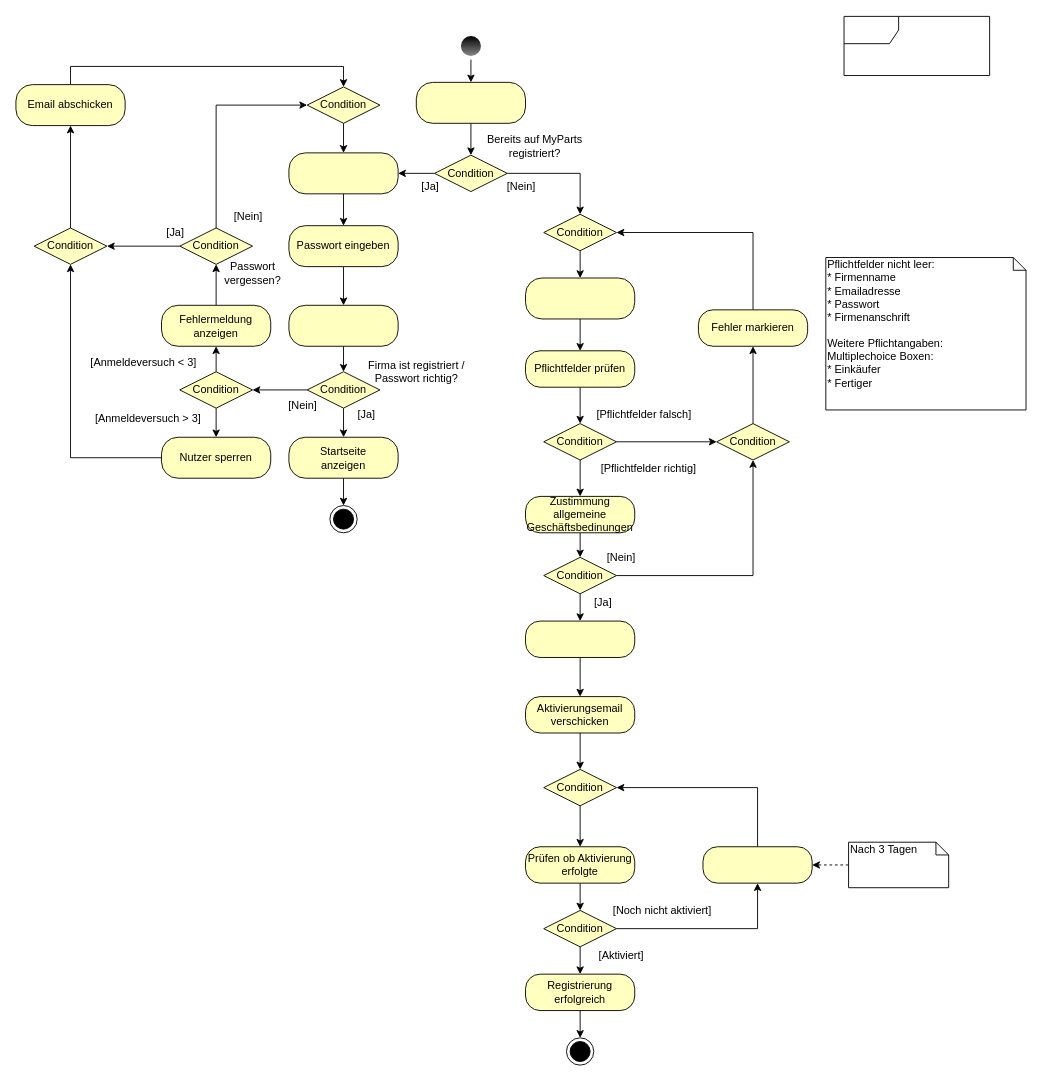
This 1042x1081 diagram has some shape labels left out. Here are the shapes that lost their labels. From the top down, the centre of each, then its label:
the point at 916,45: Authentifizierung
the point at 470,102: Registrierung abfragen
the point at 343,173: Emailadresse eingeben
the point at 580,298: Eingabe Firmendaten
the point at 343,325: Eingaben prüfen
the point at 580,638: Accountdaten abspeichern
the point at 757,864: Erinnerungsemail verschicken
